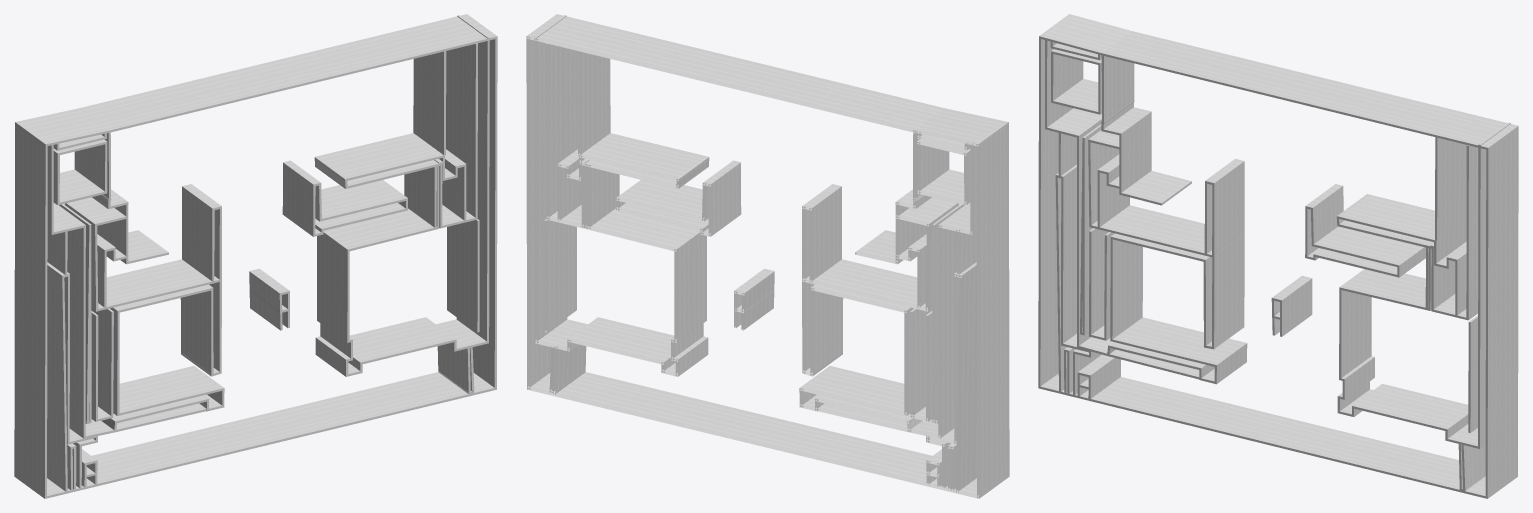
Rendered from wall_1.obj.
3 renders of one model, left to right at view 1: azimuth 30°, elevation 25°; view 2: azimuth 150°, elevation 25°; view 3: azimuth 330°, elevation 25°, orthographic.
Visible parts, largest first — view 1: walls; view 2: walls; view 3: walls.
Boxes of the visible parts, x1,y1,x2,y2 form: walls: (14, 14, 497, 498); walls: (526, 14, 1009, 498); walls: (1038, 14, 1518, 498).
Size of the model in its own units: 21.43 by 16.08 by 2.5.
